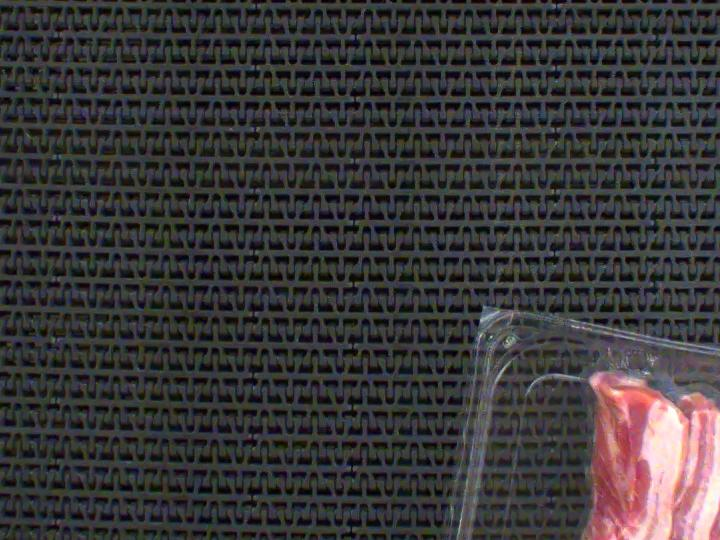unsealed: (550, 335, 720, 531)
